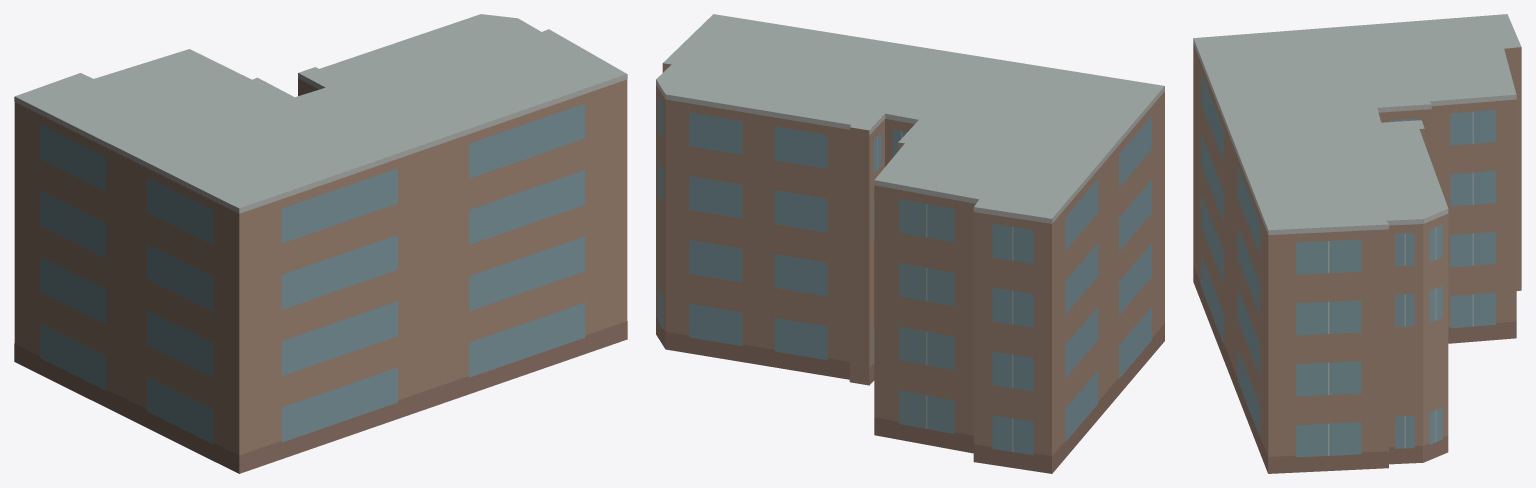
File: survey-upis-32582323.glb
3 views of the same model, side by side, from view 1: azimuth 30°, elevation 25°; view 2: azimuth 150°, elevation 25°; view 3: azimuth 270°, elevation 25° (orthographic). The views are drawn at different scales.
Visible parts, largest first — view 1: survey-upis-32582323.tmp; view 2: survey-upis-32582323.tmp; view 3: survey-upis-32582323.tmp.
Boxes of the visible parts, box(x1,y1,x2,y2) form: survey-upis-32582323.tmp: box(14, 14, 627, 473); survey-upis-32582323.tmp: box(656, 14, 1164, 473); survey-upis-32582323.tmp: box(1193, 14, 1521, 473).
Size of the model in its own units: 23.23 by 12.2 by 14.91.
